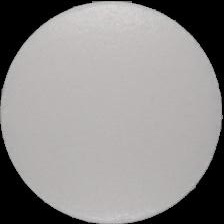63629-3551: (0, 0, 224, 224)
